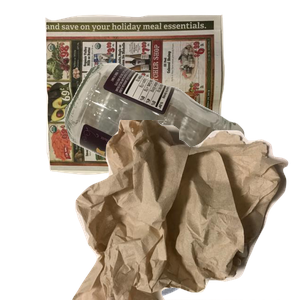glass: (62, 60, 300, 240)
paper: (42, 12, 260, 185)
plastic: (115, 176, 288, 300)
trash: (70, 120, 300, 300)
